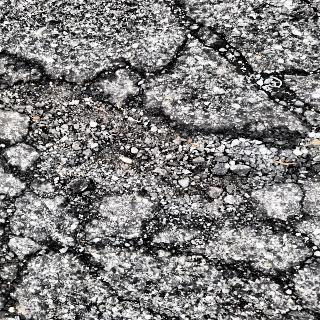alligator-crack: (1, 4, 320, 320)
